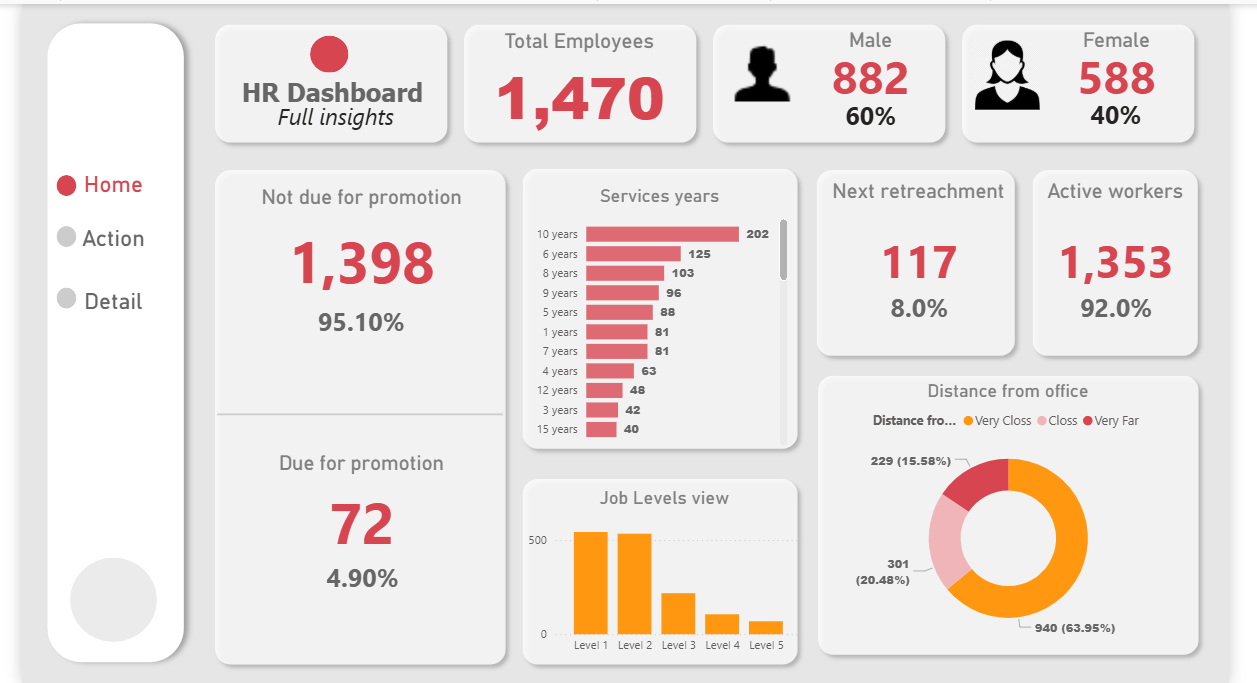

This screenshot's page, from the dashboard's own definition file:
{"tool":"powerbi","page":{"name":"Home","canvas":[1280,720],"ordinal":0},"visuals":[{"type":"shape","box":[16.5,9.6,166.5,699.2],"z":0},{"type":"shape","box":[195.4,12.4,264.3,143.1],"z":1000},{"type":"shape","box":[459.7,12.4,264.3,143.1],"z":2000},{"type":"shape","box":[724,12.4,264.3,143.1],"z":3000},{"type":"shape","box":[988.2,12.4,264.3,143.1],"z":4000},{"type":"shape","box":[195.4,166.5,326.2,542.3],"z":5000},{"type":"shape","box":[521.6,166.2,309.7,315.2],"z":6000},{"type":"shape","box":[521.6,494.1,309.7,214.7],"z":7000},{"type":"shape","box":[834.8,384.2,421.6,314.1],"z":8000},{"type":"shape","box":[833.6,166.7,228.3,215],"z":9000},{"type":"shape","box":[1063.1,166.7,193.3,215],"z":10000},{"type":"textbox","box":[209.7,71.2,238.7,51.4],"z":11000},{"type":"textbox","box":[209.7,97.6,251.9,55.4],"z":13000},{"type":"shape","box":[305.9,33,40.9,39.6],"z":14000},{"type":"card","title":"Total Employees","fields":{"Values":["All Measures.Total Emp"]},"box":[468,27.5,246.4,112.9],"z":15000},{"type":"card","title":"Male","fields":{"Values":["All Measures.Male"]},"box":[814.8,26.2,170.7,75.7],"z":16000},{"type":"card","fields":{"Values":["All Measures.Male %"]},"box":[834.1,90.8,132.1,55.1],"z":17000},{"type":"card","title":"Female","fields":{"Values":["All Measures.Female"]},"box":[1068.7,26.2,183.1,75.7],"z":18000},{"type":"card","fields":{"Values":["All Measures.Female %"]},"box":[1083.9,90.8,152.8,53.7],"z":19000},{"type":"image","box":[736.3,26.2,95,90.8],"z":20000},{"type":"actionButton","title":"Home","box":[27.8,176.4,140.1,30.2],"z":21000},{"type":"image","box":[1004.7,33,79.8,84],"z":22000},{"type":"actionButton","title":"Action","box":[27.7,233.4,139.8,56.7],"z":23000},{"type":"card","title":"Active workers","fields":{"Values":["All Measures.On service"]},"box":[1058.3,186,203,142.6],"z":24000},{"type":"actionButton","title":"Detail","box":[27.7,300.7,139.8,58],"z":25000},{"type":"card","fields":{"Values":["All Measures.% Active workers"]},"box":[1082.4,296,153.4,53.2],"z":26000},{"type":"card","title":"Next retreachment","fields":{"Values":["All Measures.Due for retirment"]},"box":[843.2,186,215,142.6],"z":27000},{"type":"card","fields":{"Values":["All Measures.%Due for retirment"]},"box":[865,296,171.5,53.2],"z":28000},{"type":"columnChart","title":"Job Levels view","fields":{"Category":["HR Analytics Data.Job Level"],"Y":["All Measures.Total Emp"]},"box":[531.3,512,300,185.8],"z":29000},{"type":"barChart","title":"Services years","fields":{"Category":["HR Analytics Data.Total working Years"],"Y":["All Measures.Total Emp"]},"box":[536.4,192.1,280.3,280.3],"z":30000},{"type":"donutChart","title":"Distance from office","fields":{"Category":["HR Analytics Data.Distance from office"],"Y":["All Measures.Total Emp"]},"box":[840.8,399.9,408.3,282.7],"z":31000},{"type":"card","title":"Not due for promotion","fields":{"Values":["All Measures.Not Due"]},"box":[207.8,192.1,303.2,130.5],"z":32000},{"type":"card","title":"Due for promotion","fields":{"Values":["All Measures.Due for promotion"]},"box":[209,473.8,303.2,119.6],"z":33000},{"type":"shape","box":[206.6,427.7,303.2,14.5],"z":34000},{"type":"card","fields":{"Values":["All Measures.% Not due for promotion"]},"box":[283.5,309.7,152.8,53.7],"z":35000},{"type":"card","fields":{"Values":["All Measures.% Due for promotion"]},"box":[285.1,582.5,152.2,53.2],"z":36000},{"type":"shape","box":[36.9,180.7,21.1,22.4],"z":37000},{"type":"shape","box":[36.9,236,21.1,22.4],"z":38000},{"type":"shape","box":[36.9,300.7,21.1,22.4],"z":39000},{"type":"shape","box":[51.4,586.8,92.3,89.7],"z":40000}]}

Visuals, with their boxes on the page's 1280x720 design canvas (x1, y1, x2, y2). These are canvas units, not pixel positions in the 1257x683 screenshot, which may show the page scaled, cropped or inside an application window:
shape: [x1=16, y1=10, x2=183, y2=709]
shape: [x1=195, y1=12, x2=460, y2=156]
shape: [x1=460, y1=12, x2=724, y2=156]
shape: [x1=724, y1=12, x2=988, y2=156]
shape: [x1=988, y1=12, x2=1252, y2=156]
shape: [x1=195, y1=166, x2=522, y2=709]
shape: [x1=522, y1=166, x2=831, y2=481]
shape: [x1=522, y1=494, x2=831, y2=709]
shape: [x1=835, y1=384, x2=1256, y2=698]
shape: [x1=834, y1=167, x2=1062, y2=382]
shape: [x1=1063, y1=167, x2=1256, y2=382]
textbox: [x1=210, y1=71, x2=448, y2=123]
textbox: [x1=210, y1=98, x2=462, y2=153]
shape: [x1=306, y1=33, x2=347, y2=73]
"Total Employees" card: [x1=468, y1=28, x2=714, y2=140]
"Male" card: [x1=815, y1=26, x2=986, y2=102]
card - All Measures.Male %: [x1=834, y1=91, x2=966, y2=146]
"Female" card: [x1=1069, y1=26, x2=1252, y2=102]
card - All Measures.Female %: [x1=1084, y1=91, x2=1237, y2=144]
image: [x1=736, y1=26, x2=831, y2=117]
"Home" actionButton: [x1=28, y1=176, x2=168, y2=207]
image: [x1=1005, y1=33, x2=1084, y2=117]
"Action" actionButton: [x1=28, y1=233, x2=168, y2=290]
"Active workers" card: [x1=1058, y1=186, x2=1261, y2=329]
"Detail" actionButton: [x1=28, y1=301, x2=168, y2=359]
card - All Measures.% Active workers: [x1=1082, y1=296, x2=1236, y2=349]
"Next retreachment" card: [x1=843, y1=186, x2=1058, y2=329]
card - All Measures.%Due for retirment: [x1=865, y1=296, x2=1036, y2=349]
"Job Levels view" columnChart: [x1=531, y1=512, x2=831, y2=698]
"Services years" barChart: [x1=536, y1=192, x2=817, y2=472]
"Distance from office" donutChart: [x1=841, y1=400, x2=1249, y2=683]
"Not due for promotion" card: [x1=208, y1=192, x2=511, y2=323]
"Due for promotion" card: [x1=209, y1=474, x2=512, y2=593]
shape: [x1=207, y1=428, x2=510, y2=442]
card - All Measures.% Not due for promotion: [x1=284, y1=310, x2=436, y2=363]
card - All Measures.% Due for promotion: [x1=285, y1=582, x2=437, y2=636]
shape: [x1=37, y1=181, x2=58, y2=203]
shape: [x1=37, y1=236, x2=58, y2=258]
shape: [x1=37, y1=301, x2=58, y2=323]
shape: [x1=51, y1=587, x2=144, y2=676]
